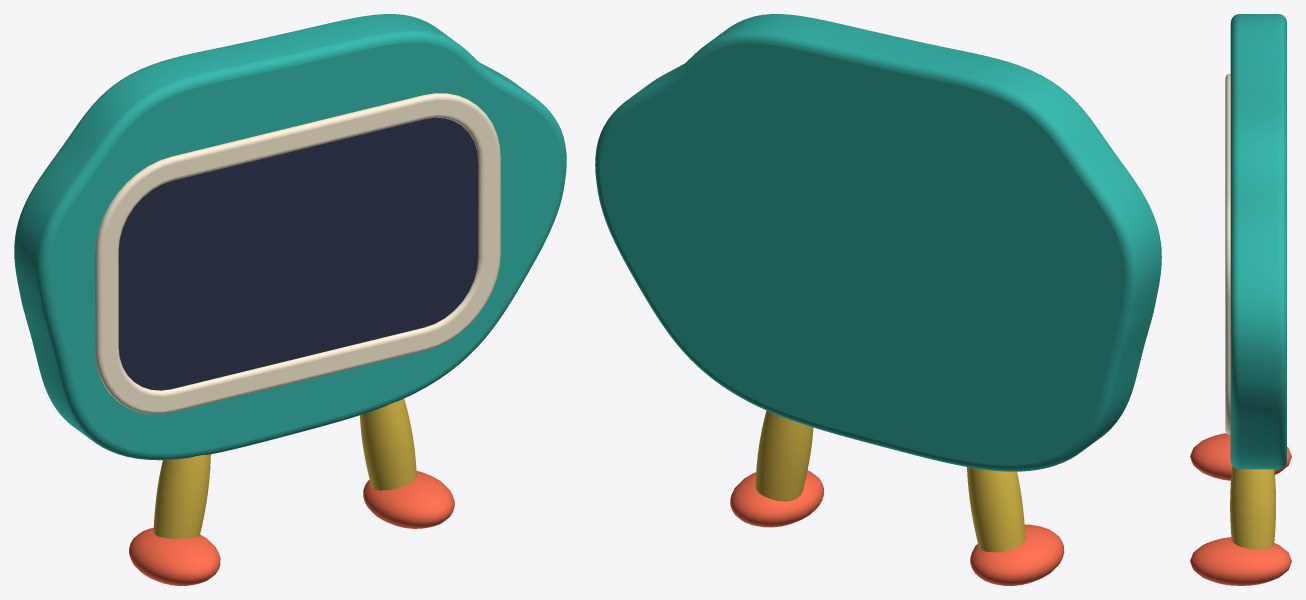
Rendered from BB_BLOB_1.glb.
3 views of the same model, side by side, from view 1: azimuth 30°, elevation 25°; view 2: azimuth 150°, elevation 25°; view 3: azimuth 270°, elevation 25° (orthographic). The views are drawn at different scales.
Parts seen in each view (by area): view 1: BB_BLOB_1_body, BB_BLOB_1_FACE, BB_BLOB_1_frame, BB_BLOB_1_legR, BB_BLOB_1_legL, BB_BLOB_1_shoeL, BB_BLOB_1_shoeR; view 2: BB_BLOB_1_body, BB_BLOB_1_legL, BB_BLOB_1_legR, BB_BLOB_1_shoeL, BB_BLOB_1_shoeR; view 3: BB_BLOB_1_body, BB_BLOB_1_legR, BB_BLOB_1_shoeR, BB_BLOB_1_frame, BB_BLOB_1_shoeL.
Part boxes in pixels (x1,y1,x2,y2): BB_BLOB_1_body: (14, 14, 566, 460); BB_BLOB_1_FACE: (118, 117, 478, 390); BB_BLOB_1_frame: (95, 93, 500, 414); BB_BLOB_1_legR: (360, 398, 416, 490); BB_BLOB_1_legL: (153, 454, 210, 539); BB_BLOB_1_shoeL: (129, 528, 220, 585); BB_BLOB_1_shoeR: (363, 471, 454, 528); BB_BLOB_1_body: (595, 14, 1161, 471); BB_BLOB_1_legL: (967, 467, 1025, 552); BB_BLOB_1_legR: (755, 410, 813, 501); BB_BLOB_1_shoeL: (970, 524, 1064, 585); BB_BLOB_1_shoeR: (730, 470, 823, 527); BB_BLOB_1_body: (1230, 14, 1286, 469); BB_BLOB_1_legR: (1230, 466, 1275, 549); BB_BLOB_1_shoeR: (1190, 537, 1291, 585); BB_BLOB_1_frame: (1225, 73, 1230, 434); BB_BLOB_1_shoeL: (1190, 433, 1291, 480).
Bounding box in the file's own units: 11.52 × 10.36 × 2.1.
